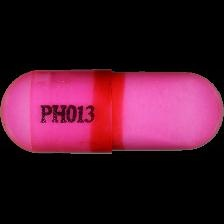21695-500: (0, 0, 224, 224)
